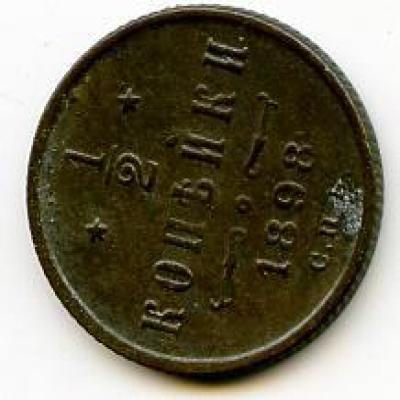numismatics: (28, 7, 383, 377)
